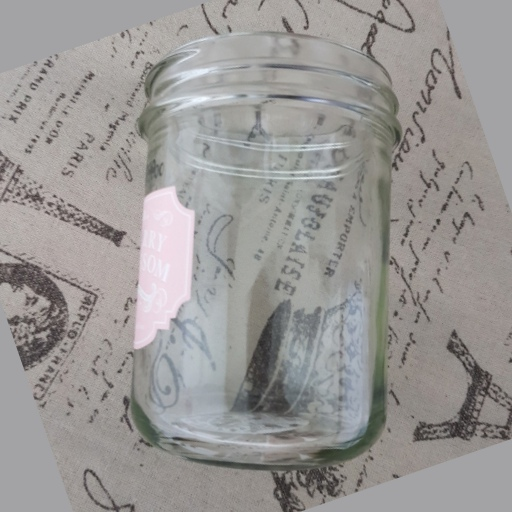Glass_5: (137, 34, 404, 459)
